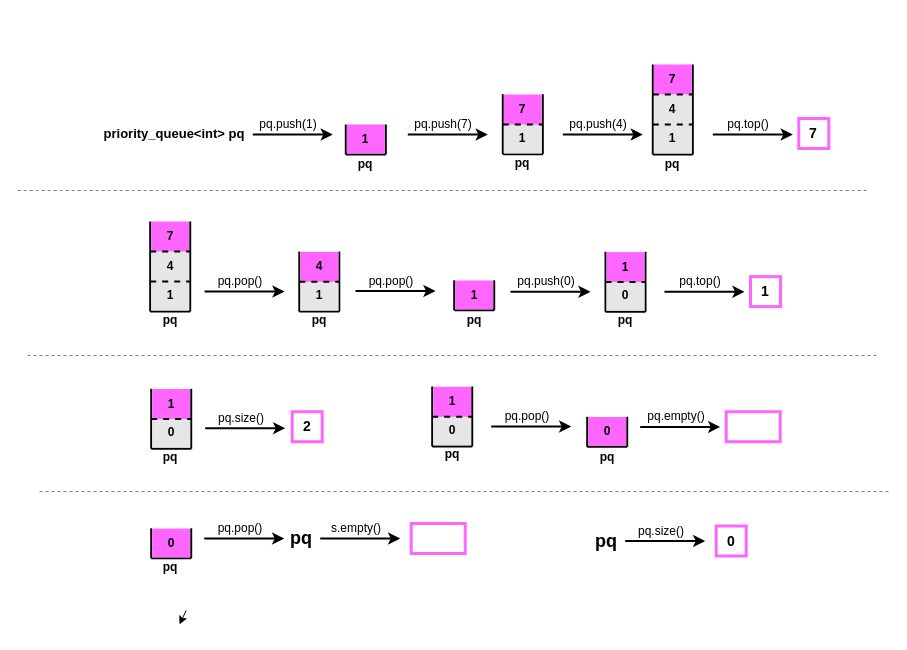
The diagram is 907 pixels wide and 650 high, and some of its shapes have lost their labels. The box of each missing label's shape, as (x1, y1, x2, y2) in pixels:
false: (724, 410, 781, 443)
true: (409, 522, 466, 554)
